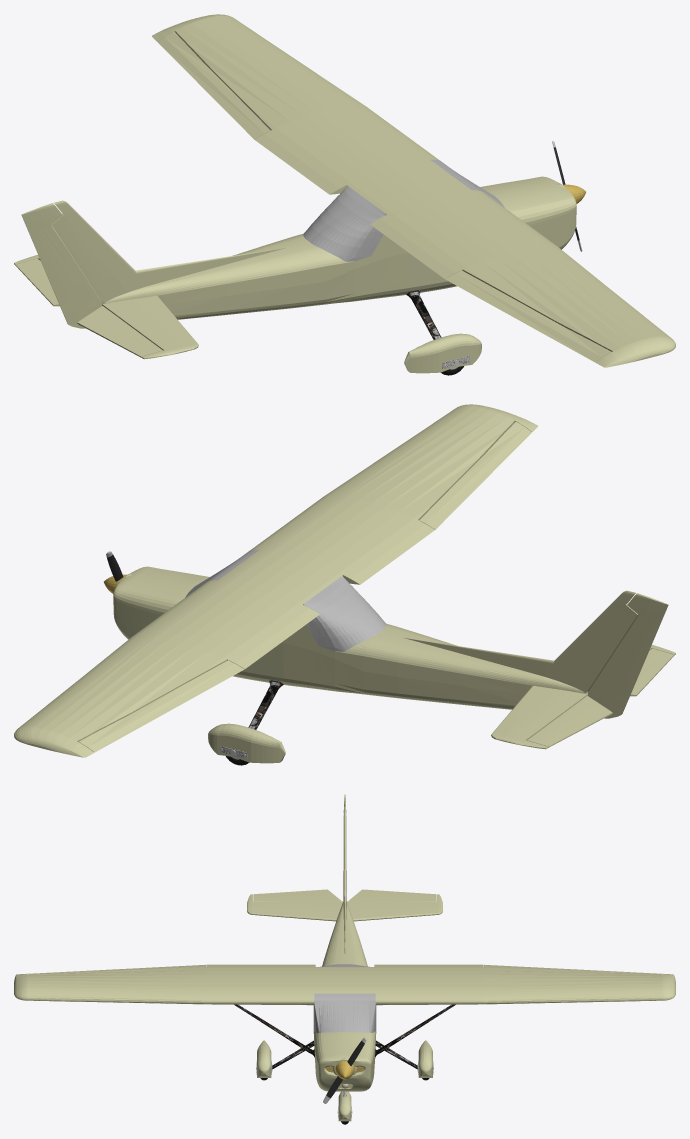
3 renders of one model, top to bottom at view 1: azimuth 30°, elevation 25°; view 2: azimuth 150°, elevation 25°; view 3: azimuth 270°, elevation 25°, orthographic. The views are drawn at different scales.
Visible parts, largest first — view 1: mesh17.001_mesh17-geometry, mesh30.001_mesh30-geometry, mesh18.002_mesh18-geometry, mesh20.002_mesh20-geometry, mesh11.001_mesh11-geometry, mesh5.001_mesh5-geometry; view 2: mesh17.001_mesh17-geometry, mesh30.001_mesh30-geometry, mesh18.002_mesh18-geometry, mesh20.002_mesh20-geometry, mesh11.001_mesh11-geometry, mesh2.001_mesh2-geometry; view 3: mesh17.001_mesh17-geometry, mesh30.001_mesh30-geometry, mesh20.002_mesh20-geometry, mesh10.001_mesh10-geometry, mesh18.002_mesh18-geometry, mesh5.001_mesh5-geometry, mesh2.001_mesh2-geometry.
Part boxes in pixels (box(x1,y1,x2,y2)): mesh17.001_mesh17-geometry: box(152, 14, 675, 367); mesh30.001_mesh30-geometry: box(101, 176, 585, 319); mesh18.002_mesh18-geometry: box(21, 200, 286, 328); mesh20.002_mesh20-geometry: box(14, 255, 198, 359); mesh11.001_mesh11-geometry: box(303, 186, 386, 261); mesh5.001_mesh5-geometry: box(404, 333, 481, 373); mesh17.001_mesh17-geometry: box(14, 404, 537, 757); mesh30.001_mesh30-geometry: box(104, 566, 588, 709); mesh18.002_mesh18-geometry: box(403, 590, 668, 718); mesh20.002_mesh20-geometry: box(491, 645, 675, 749); mesh11.001_mesh11-geometry: box(303, 576, 386, 651); mesh2.001_mesh2-geometry: box(208, 723, 285, 763); mesh17.001_mesh17-geometry: box(14, 964, 675, 1005); mesh30.001_mesh30-geometry: box(313, 902, 376, 1091); mesh20.002_mesh20-geometry: box(247, 889, 442, 921); mesh10.001_mesh10-geometry: box(313, 993, 376, 1032); mesh18.002_mesh18-geometry: box(343, 794, 346, 953); mesh5.001_mesh5-geometry: box(256, 1040, 272, 1077); mesh2.001_mesh2-geometry: box(417, 1040, 433, 1077).
Size of the model in its own units: 0.5688 by 0.2062 by 0.7962.
